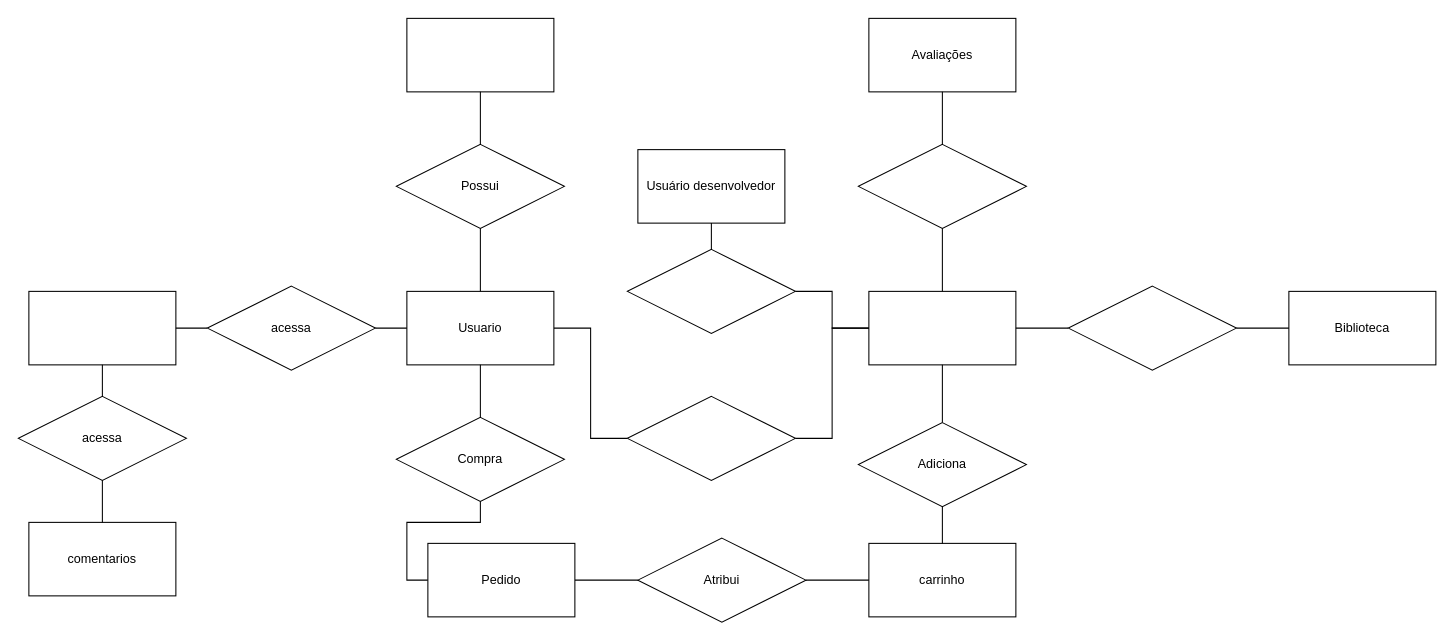
This 1454x641 diagram has some shape labels left out. The centre of each missing label's shape, as x and y in pixels:
"amizades" goes at pixel 480 54.
"Armazena" goes at pixel 1151 327.
"comunidades" goes at pixel 102 327.
"Contem" goes at pixel 941 185.
"Escolhe" goes at pixel 710 437.
"Jogo" goes at pixel 942 327.
"posta" goes at pixel 710 290.
